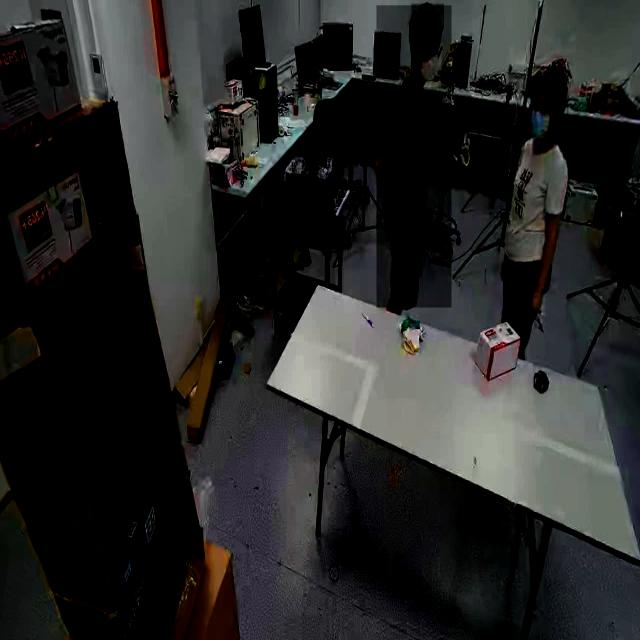face_mask: (526, 94, 552, 144), (414, 46, 442, 88)
hand_noglove: (526, 286, 545, 316), (382, 198, 392, 228)
head_nohelmet: (535, 67, 571, 97), (411, 4, 444, 30)
person: (495, 61, 573, 367), (376, 5, 452, 308)
